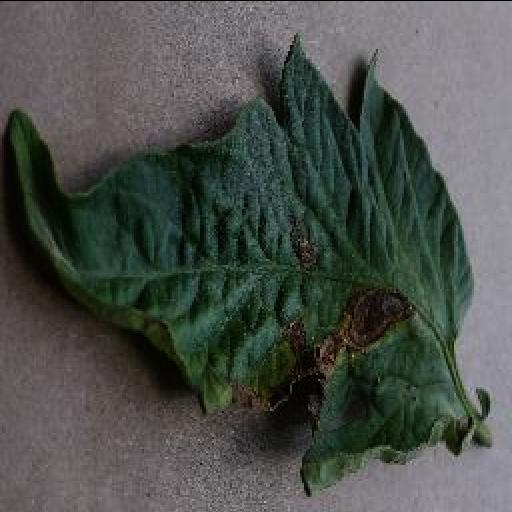Early Blight: (6, 30, 476, 492)
